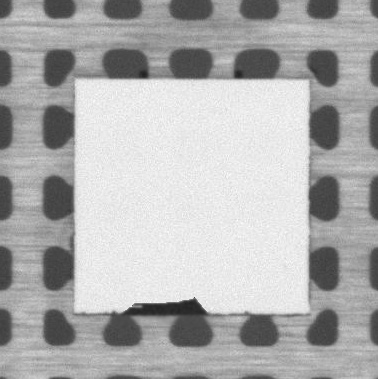DIE_BROKEN: (119, 295, 210, 317)
